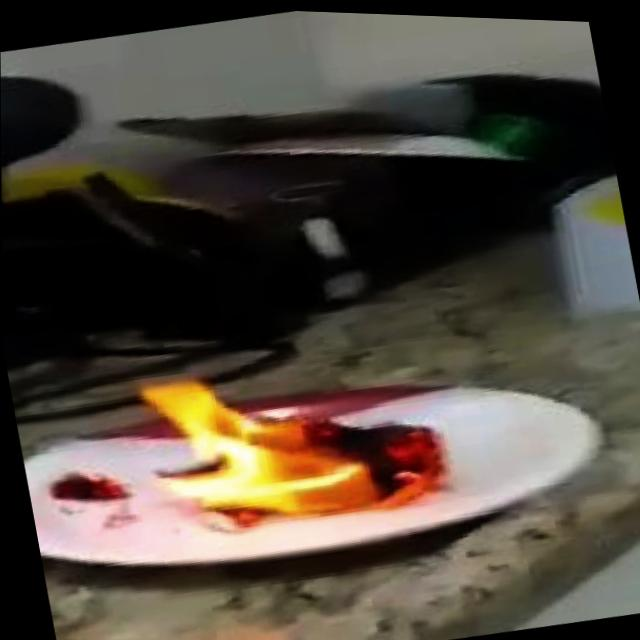fire: (124, 331, 457, 561)
